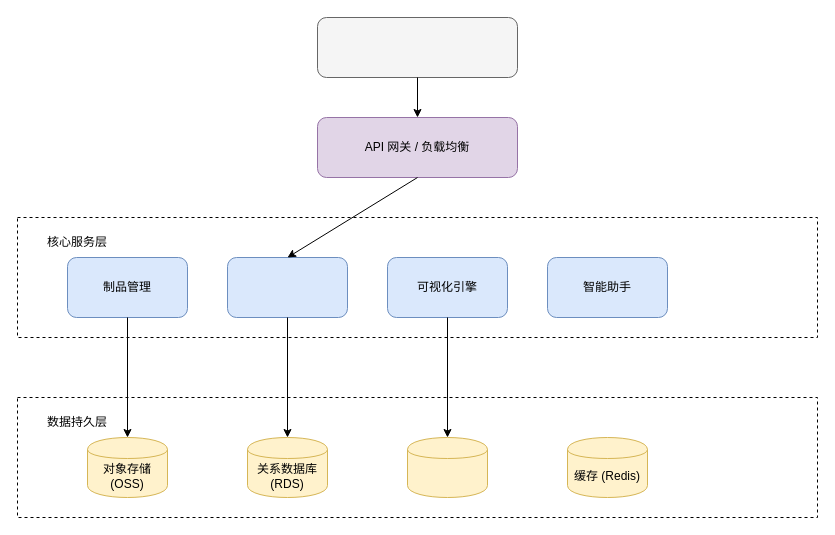
Image size: 835x535. Some labels were removed from this diagram. The shapes that lost their labels are listed below. From the top down, each one's centre as x and y in pixels, then its label:
At point (417, 47): "用户终端 (Web/Mobile)".
At point (287, 287): "质量管控".
At point (447, 467): "向量数据库".
